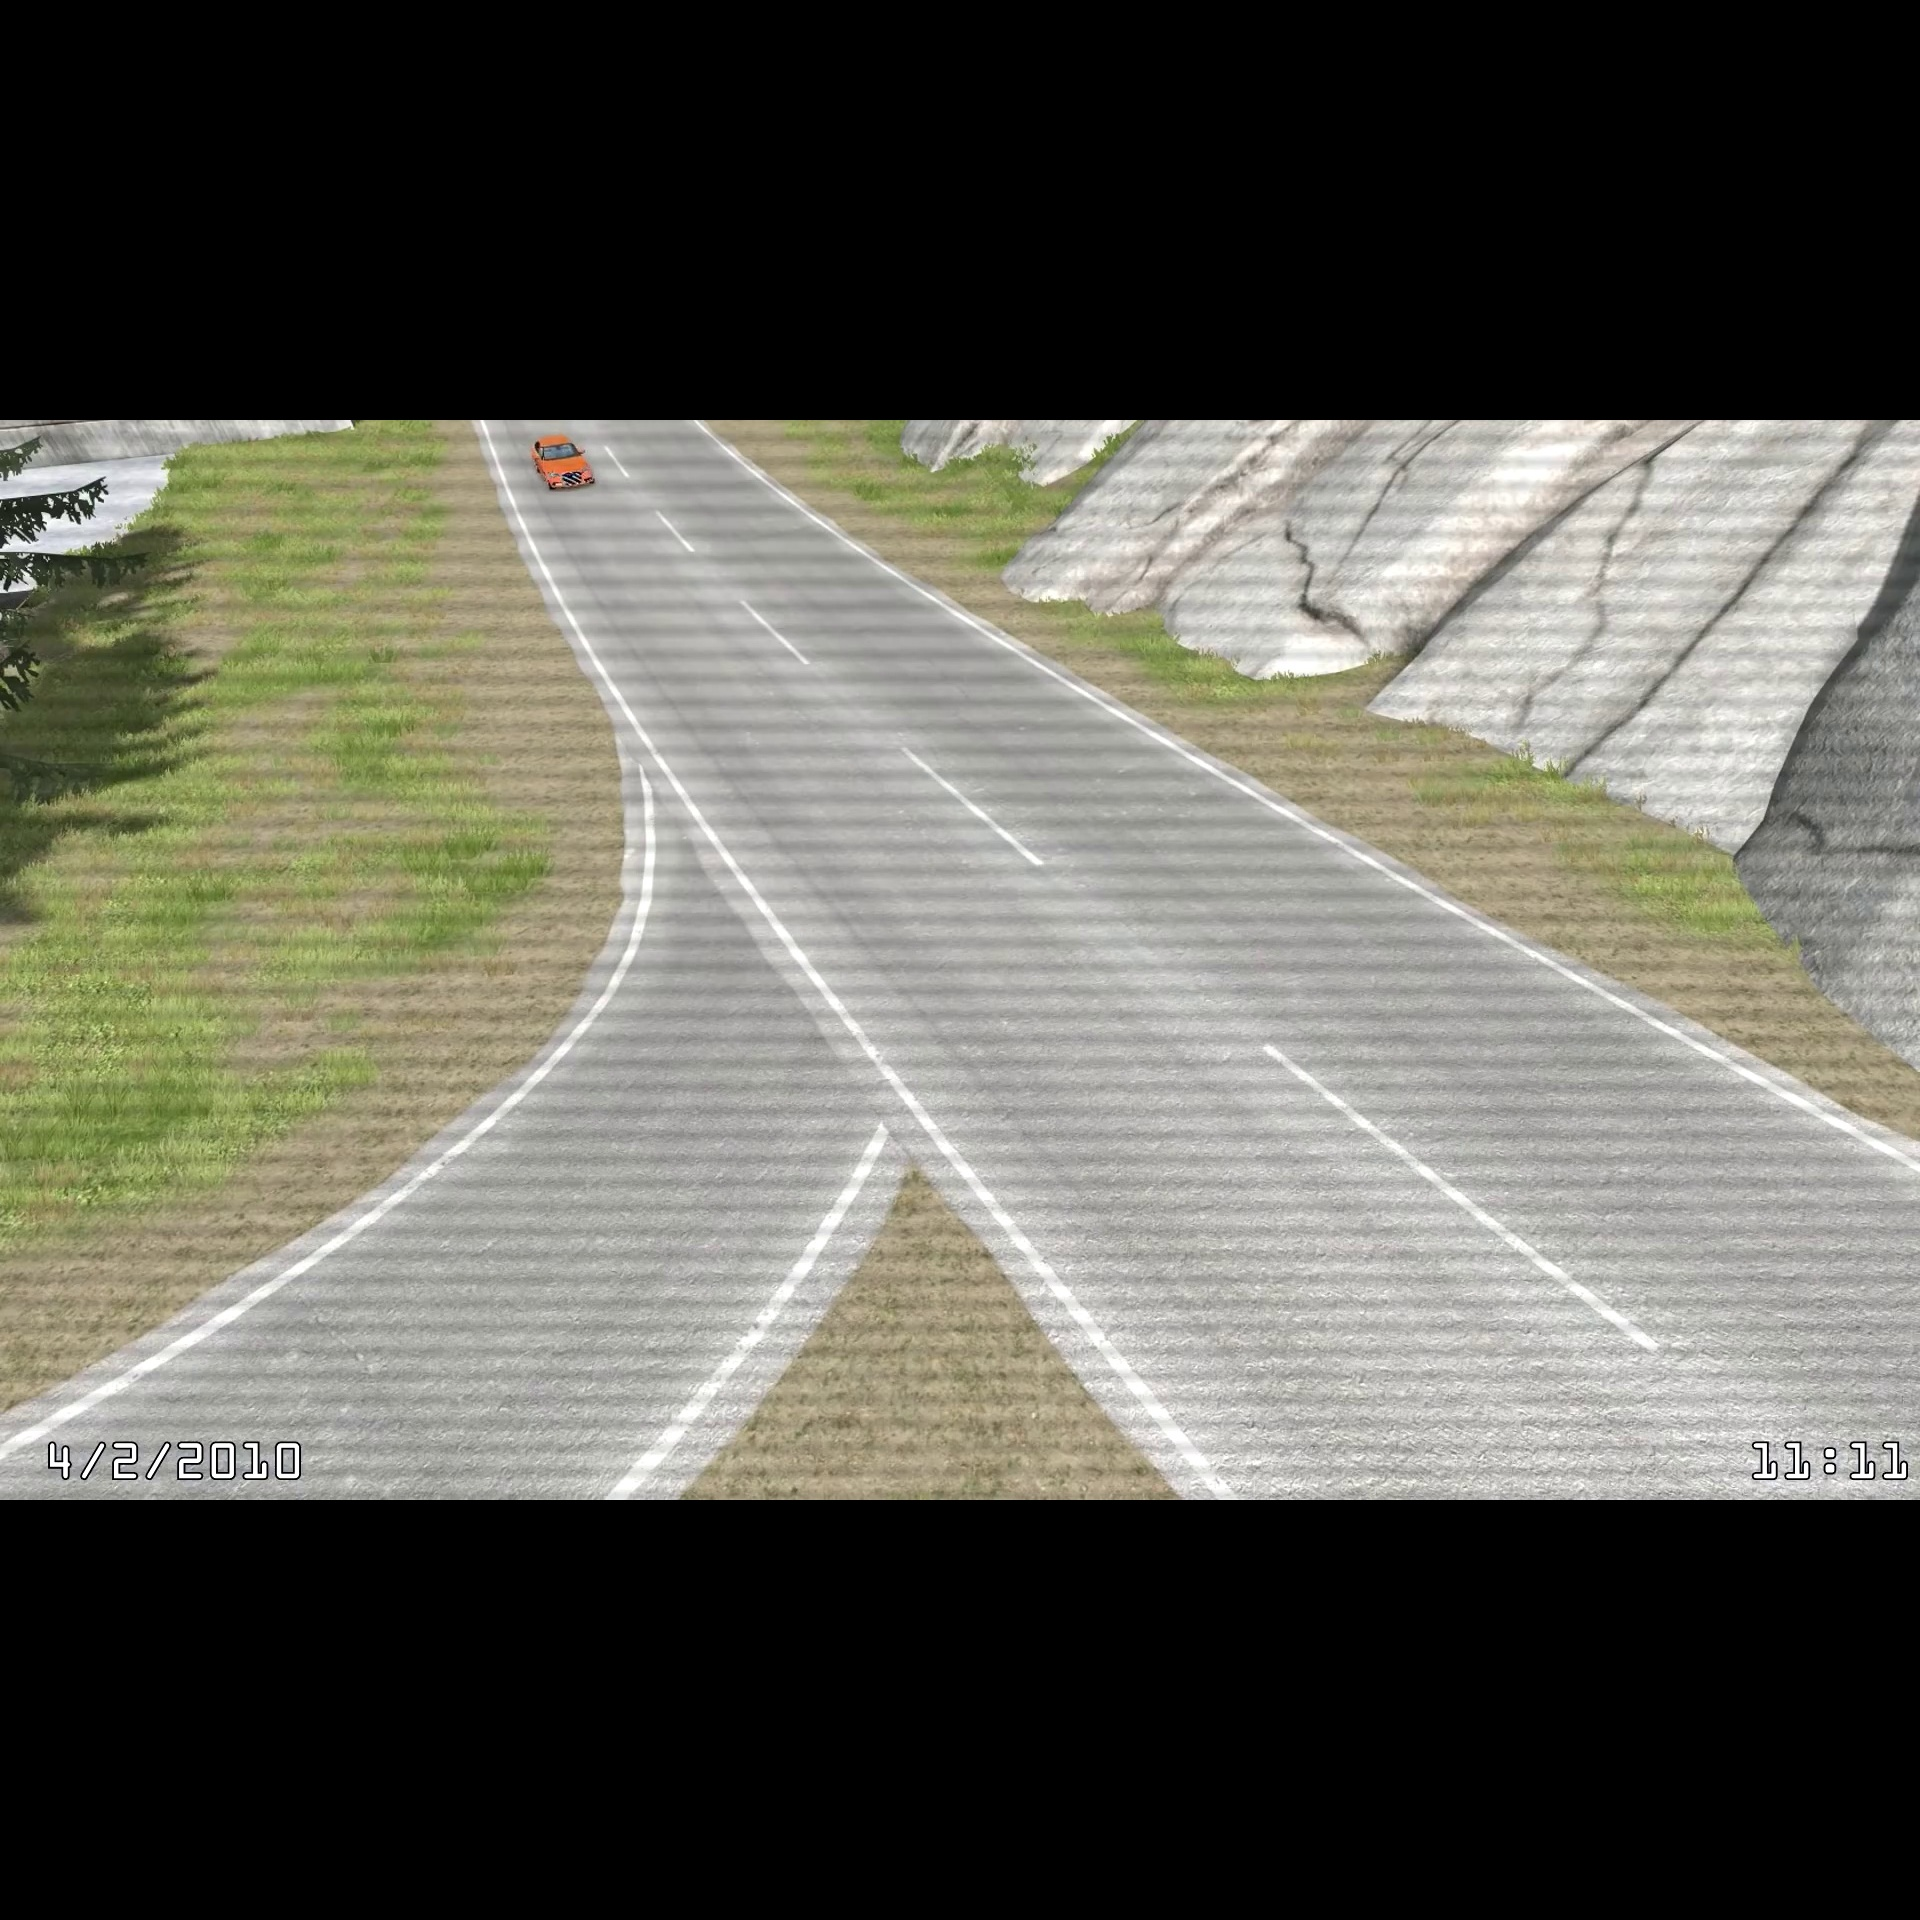vehicle: (527, 429, 598, 498)
